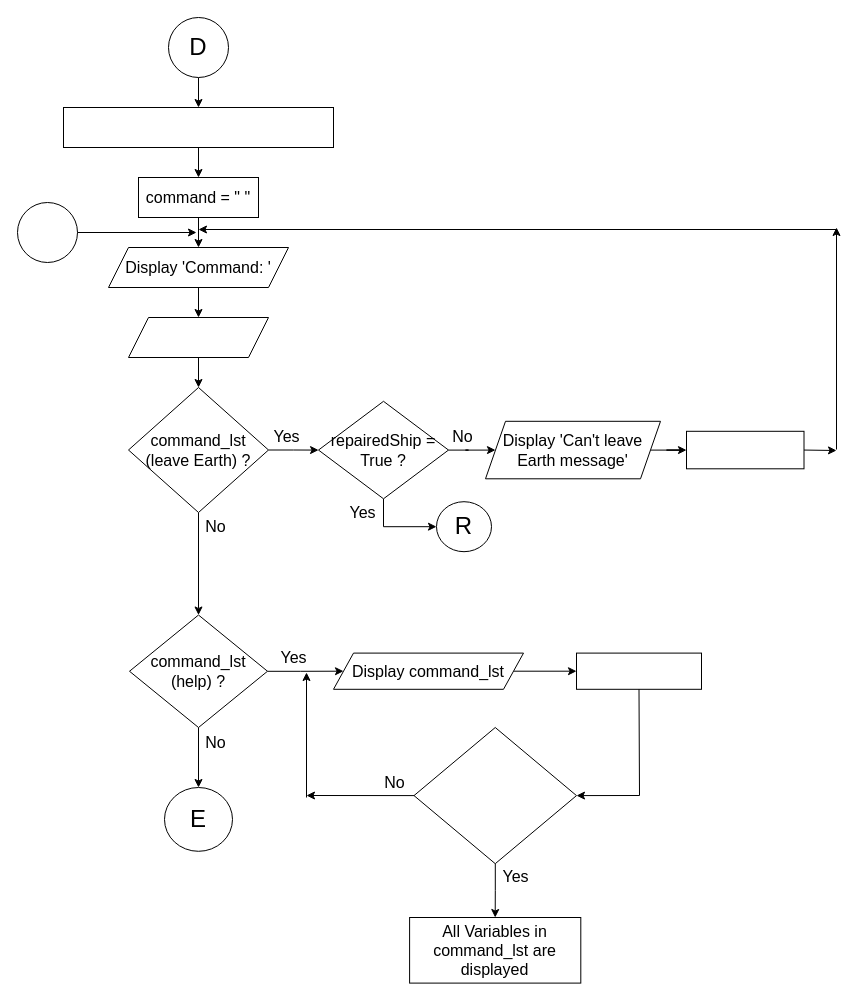
Some shapes in this 862 by 1001 pixel diagram are drawn without their labels. Here are the shapes that lost their labels. From the top down, the centre of each, then its label:
At (x=198, y=127): "command_lst = leave Earth, help, stats, nasa workshop".
At (x=47, y=232): "CL".
At (x=198, y=337): "read command".
At (x=745, y=449): "wait 5 seconds".
At (x=639, y=670): "increment i by 1".
At (x=494, y=795): "i greater than or equal to command_lst ?".
